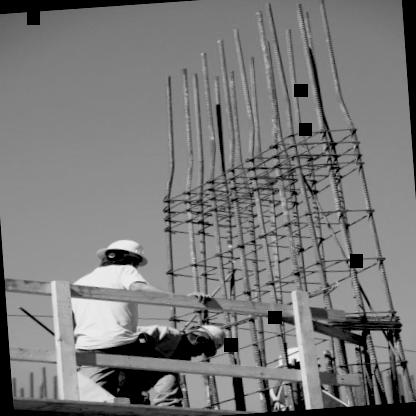helmet: (87, 235, 153, 276)
